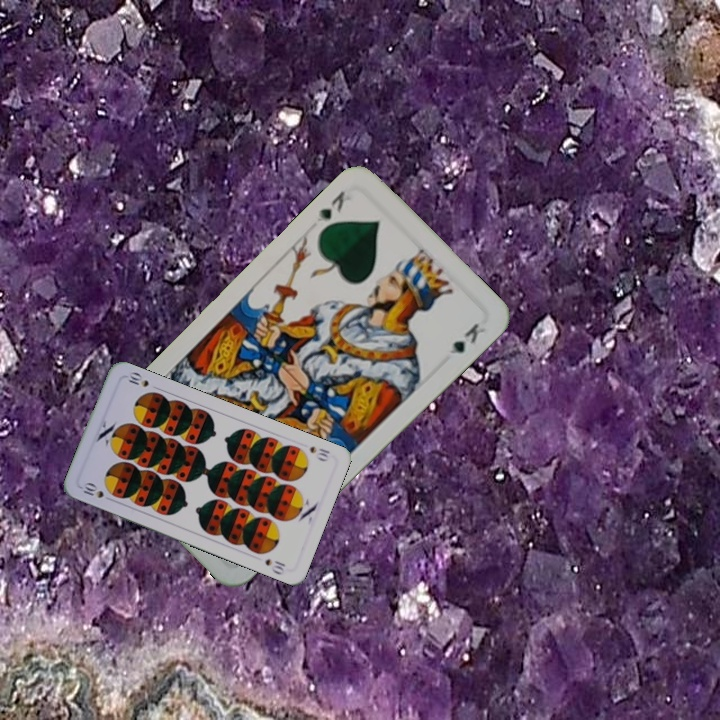GK: (311, 187, 348, 225)
S10: (78, 479, 116, 504), (306, 442, 333, 464)
